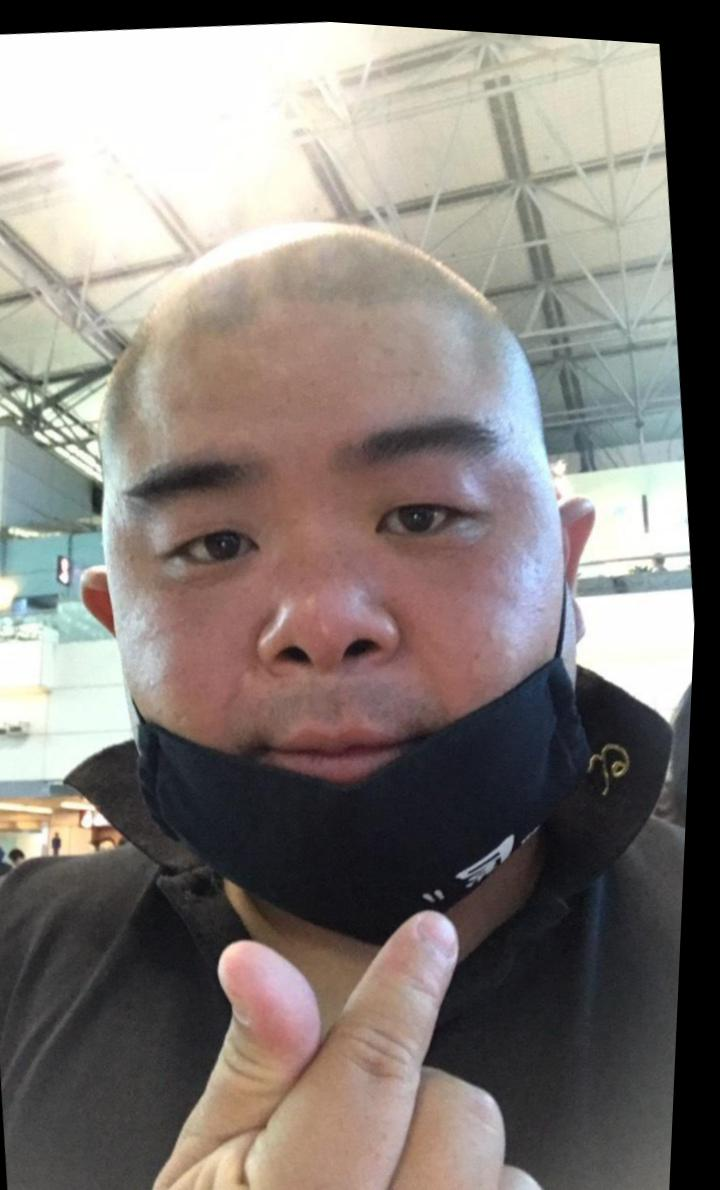WRONG: (96, 358, 589, 937)
